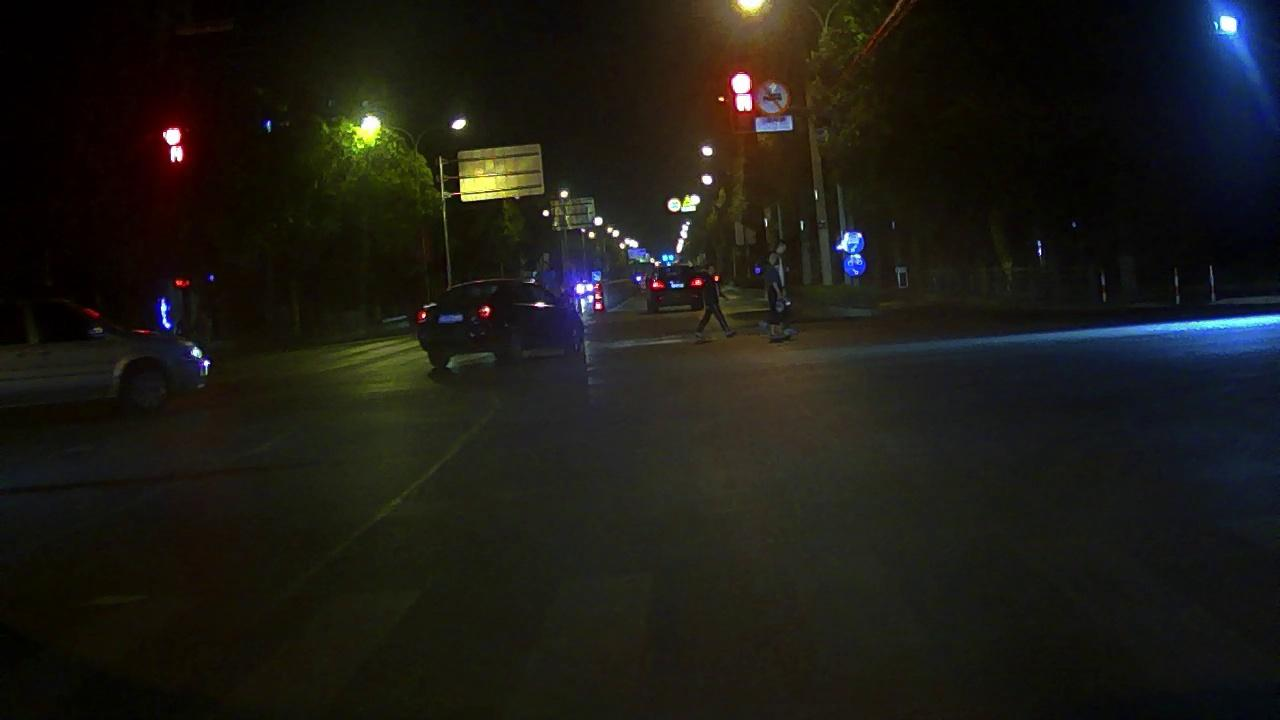traffic_light: (728, 69, 759, 116), (160, 122, 190, 169)
